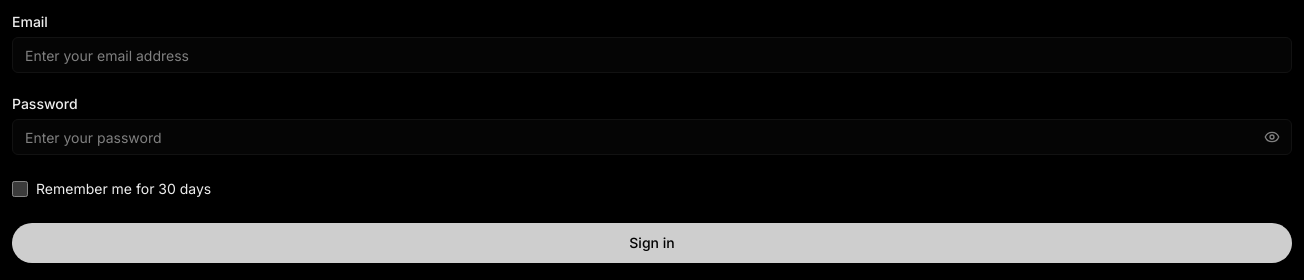
it: LoginForm › Loading State (Requirement 3.8) › should disable form during submission
Fill in credentials
Type "john@example.com" into the field labelled "Email".
click(652, 55); type("john@example.com")  # box [12, 37, 1292, 73]
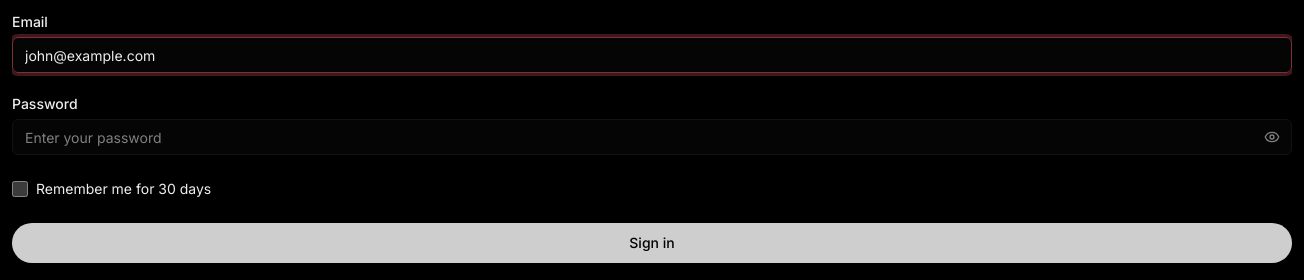
Type "ValidPass123!" into the password field with placeholder "Enter your password".
click(652, 137); type("ValidPass123!")  # box [12, 119, 1292, 155]
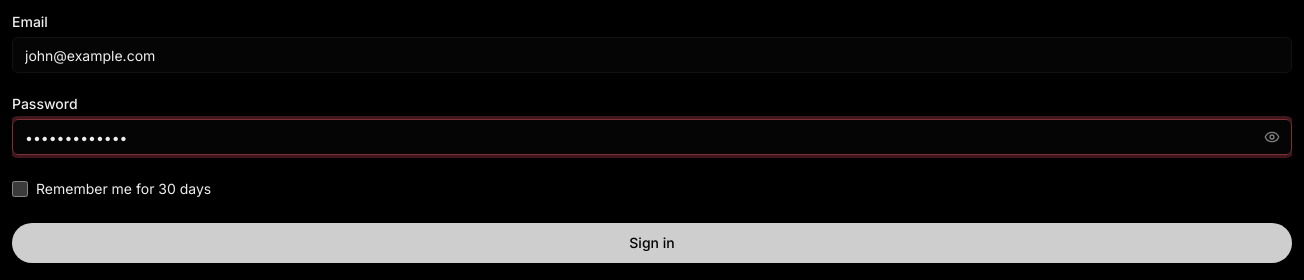
Submit form
Click the button "Sign in".
click(652, 243)  # box [12, 223, 1292, 263]
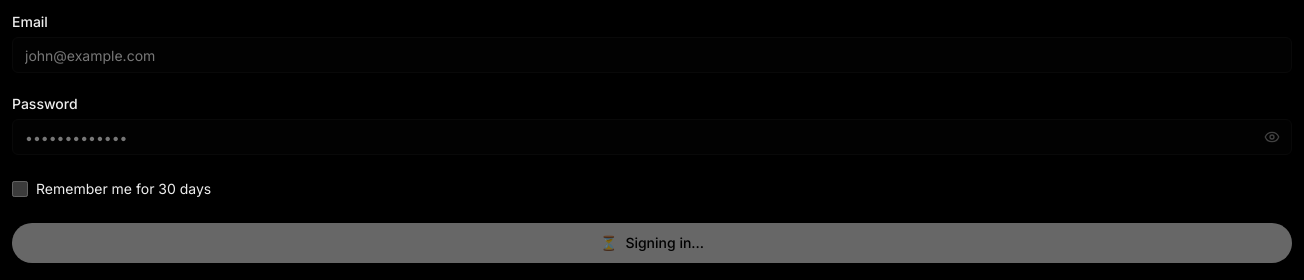
Now the button "⏳ Signing in..." is disabled, box [12, 223, 1292, 263]
Now the field labelled "Email" is disabled, box [12, 37, 1292, 73]
Now the password field with placeholder "Enter your password" is disabled, box [12, 119, 1292, 155]
